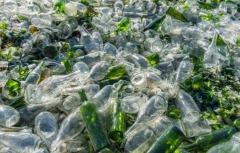glass: (78, 88, 112, 152), (182, 126, 234, 152), (142, 125, 186, 153)
